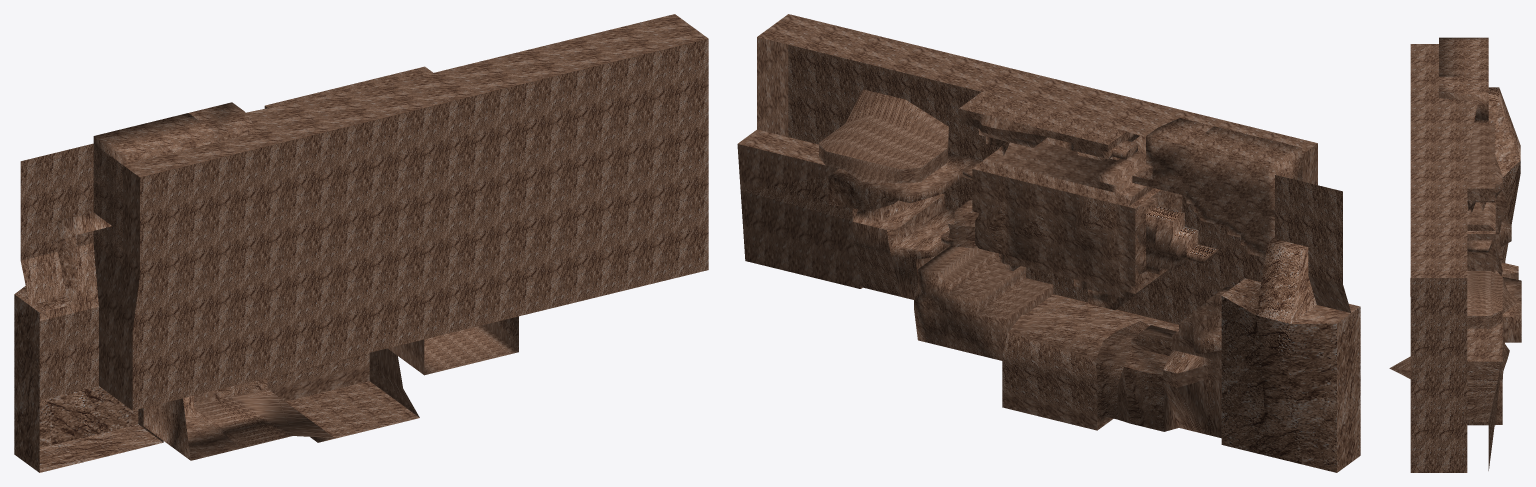
The model's file is Cave_Mesh.fbx.
The picture shows the model from 3 angles, left to right: view 1: azimuth 30°, elevation 25°; view 2: azimuth 150°, elevation 25°; view 3: azimuth 270°, elevation 25°; orthographic projection. The views are drawn at different scales.
Visible parts, largest first — view 1: Cave.mesh.001, Cave.mesh.009, Cave.mesh.005, Cave.mesh.003, Cave.mesh.008, Cave.mesh.011; view 2: Cave.mesh.001, Cave.mesh.005, Cave.mesh.009, Cave.mesh.002, Cave.mesh.003, Cave.mesh.006, Cave.mesh.008, Cave.mesh.004, Cave.mesh.011, Cave.mesh.010, Cave.mesh, Cave.mesh.007; view 3: Cave.mesh.001, Cave.mesh.003, Cave.mesh.006, Cave.mesh.005, Cave.mesh.011, Cave.mesh.004, Cave.mesh.002, Cave.mesh.009, Cave.mesh.010, Cave.mesh.007, Cave.mesh.008.
Boxes of the visible parts, left/top/right/bottom form: Cave.mesh.001: left=20, top=14, right=708, bottom=410; Cave.mesh.009: left=143, top=348, right=419, bottom=460; Cave.mesh.005: left=14, top=212, right=163, bottom=472; Cave.mesh.003: left=93, top=102, right=254, bottom=263; Cave.mesh.008: left=388, top=316, right=518, bottom=375; Cave.mesh.011: left=264, top=66, right=433, bottom=108; Cave.mesh.001: left=737, top=14, right=1351, bottom=337; Cave.mesh.005: left=1221, top=238, right=1360, bottom=472; Cave.mesh.009: left=1002, top=286, right=1231, bottom=438; Cave.mesh.002: left=972, top=136, right=1182, bottom=310; Cave.mesh.003: left=1132, top=118, right=1302, bottom=257; Cave.mesh.006: left=828, top=152, right=976, bottom=299; Cave.mesh.008: left=914, top=245, right=1053, bottom=360; Cave.mesh.004: left=819, top=89, right=948, bottom=183; Cave.mesh.011: left=958, top=92, right=1139, bottom=161; Cave.mesh.010: left=979, top=142, right=1153, bottom=206; Cave.mesh: left=1135, top=197, right=1218, bottom=274; Cave.mesh.007: left=941, top=160, right=981, bottom=248; Cave.mesh.001: left=1410, top=44, right=1503, bottom=472; Cave.mesh.003: left=1439, top=37, right=1488, bottom=122; Cave.mesh.006: left=1467, top=277, right=1521, bottom=419; Cave.mesh.005: left=1488, top=87, right=1520, bottom=262; Cave.mesh.011: left=1467, top=122, right=1502, bottom=212; Cave.mesh.004: left=1410, top=271, right=1516, bottom=328; Cave.mesh.002: left=1467, top=188, right=1509, bottom=275; Cave.mesh.009: left=1389, top=218, right=1518, bottom=424; Cave.mesh.010: left=1467, top=202, right=1495, bottom=230; Cave.mesh.007: left=1467, top=240, right=1499, bottom=275; Cave.mesh.008: left=1467, top=374, right=1502, bottom=425.
Size of the model in its own units: 8800 by 4200 by 1867.
